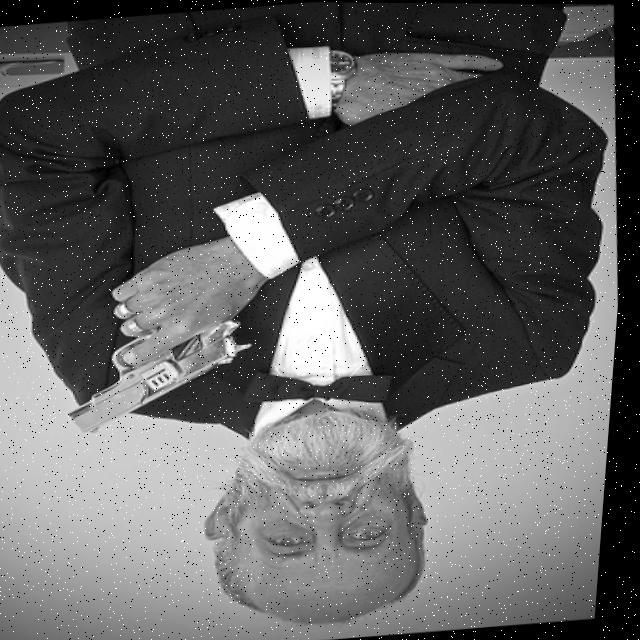pistol: (67, 315, 257, 436)
